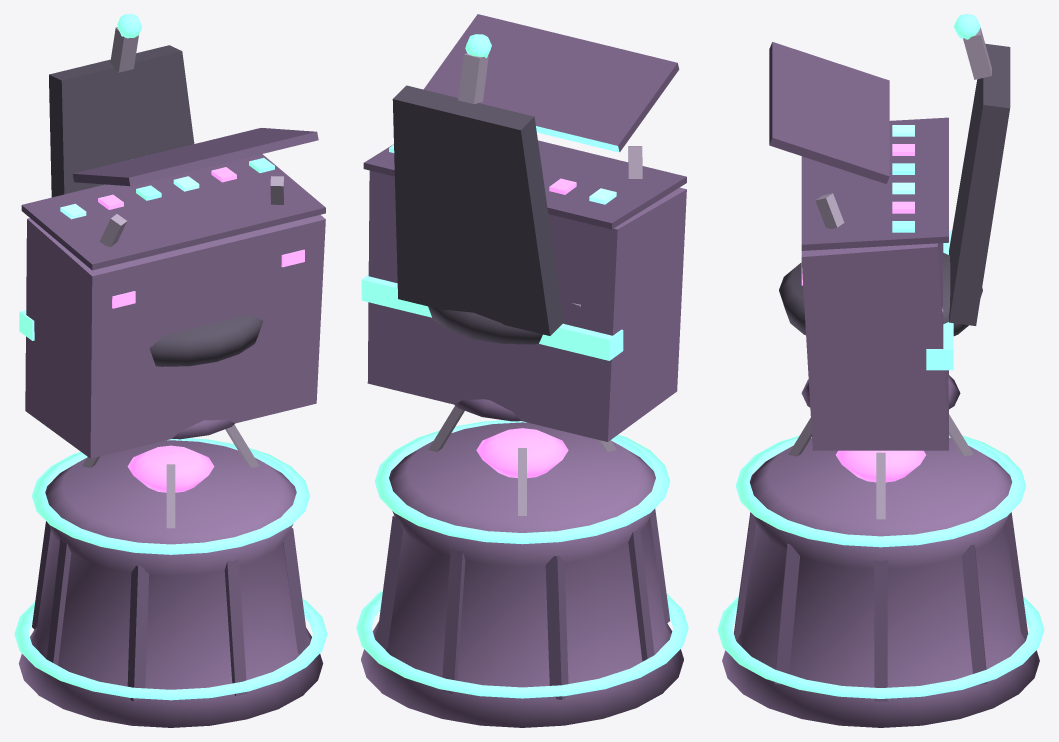
Rendered from ship_bridge.glb.
3 views of the same model, side by side, from view 1: azimuth 30°, elevation 25°; view 2: azimuth 150°, elevation 25°; view 3: azimuth 270°, elevation 25° (orthographic). The views are drawn at different scales.
Parts seen in each view (by area): view 1: mb_console_mesh, mb_holo_mesh, mb_chair_mesh; view 2: mb_holo_mesh, mb_console_mesh, mb_chair_mesh; view 3: mb_holo_mesh, mb_console_mesh, mb_chair_mesh.
Boxes of the visible parts, x1,y1,x2,y2 form: mb_console_mesh: (19, 128, 325, 458); mb_holo_mesh: (14, 424, 327, 727); mb_chair_mesh: (49, 14, 304, 439); mb_holo_mesh: (356, 406, 688, 727); mb_console_mesh: (361, 14, 686, 441); mb_chair_mesh: (392, 34, 580, 421); mb_holo_mesh: (717, 414, 1044, 727); mb_console_mesh: (769, 42, 953, 450); mb_chair_mesh: (779, 14, 1010, 409).
Size of the model in its own units: 1.44 by 3.14 by 1.44.
